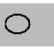no answer: (2, 11, 33, 35)
